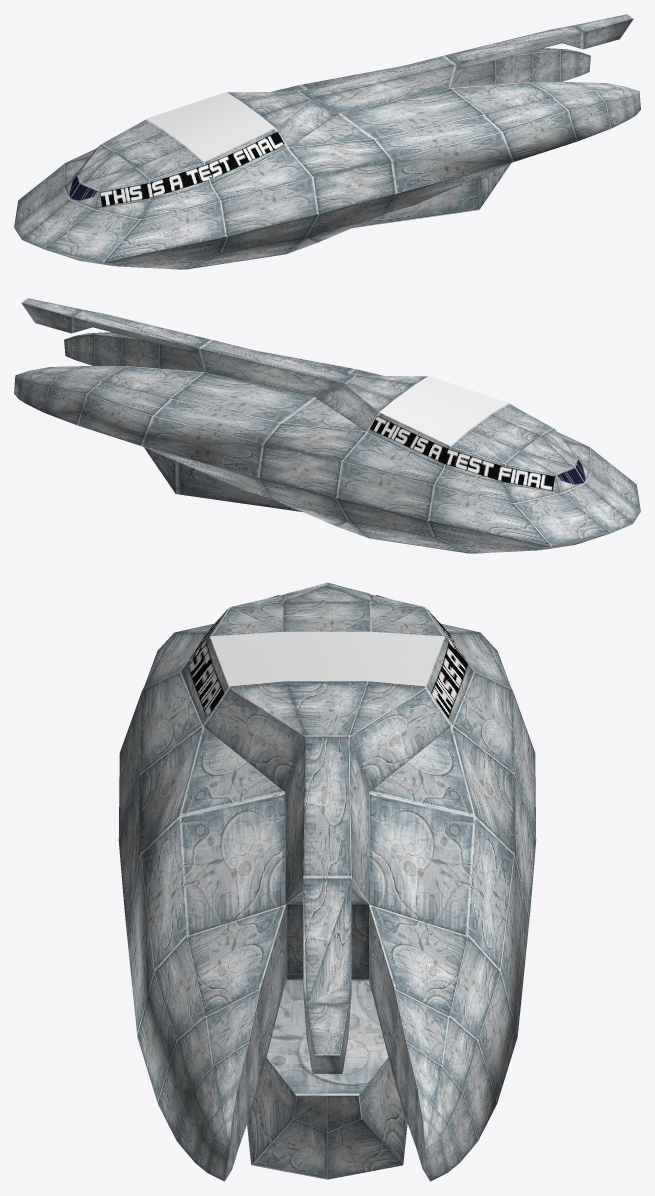
File: OriginalJEBase.obj
The picture shows the model from 3 angles, top to bottom: view 1: azimuth 30°, elevation 25°; view 2: azimuth 150°, elevation 25°; view 3: azimuth 270°, elevation 25°; orthographic projection. The views are drawn at different scales.
Parts seen in each view (by area): view 1: LINE020, DECAL030.002, NAMEDECAL0.002, COCKPIT_EXP030; view 2: LINE020, DECAL030.002, NAMEDECAL0.002, COCKPIT_EXP030; view 3: LINE020, DECAL030.002, NAMEDECAL0.002.
Boxes of the visible parts, x1=… form: LINE020: x1=14, y1=14, x2=640, y2=269; DECAL030.002: x1=146, y1=92, x2=274, y2=161; NAMEDECAL0.002: x1=71, y1=131, x2=284, y2=206; COCKPIT_EXP030: x1=69, y1=176, x2=97, y2=201; LINE020: x1=14, y1=298, x2=640, y2=553; DECAL030.002: x1=380, y1=376, x2=508, y2=445; NAMEDECAL0.002: x1=370, y1=416, x2=585, y2=490; COCKPIT_EXP030: x1=557, y1=460, x2=585, y2=485; LINE020: x1=118, y1=585, x2=536, y2=1181; DECAL030.002: x1=210, y1=631, x2=444, y2=686; NAMEDECAL0.002: x1=188, y1=595, x2=467, y2=718.
Bounding box in the file's own units: 68.22 × 15.71 × 20.26.
Materials: 8 (8 with a texture image).
